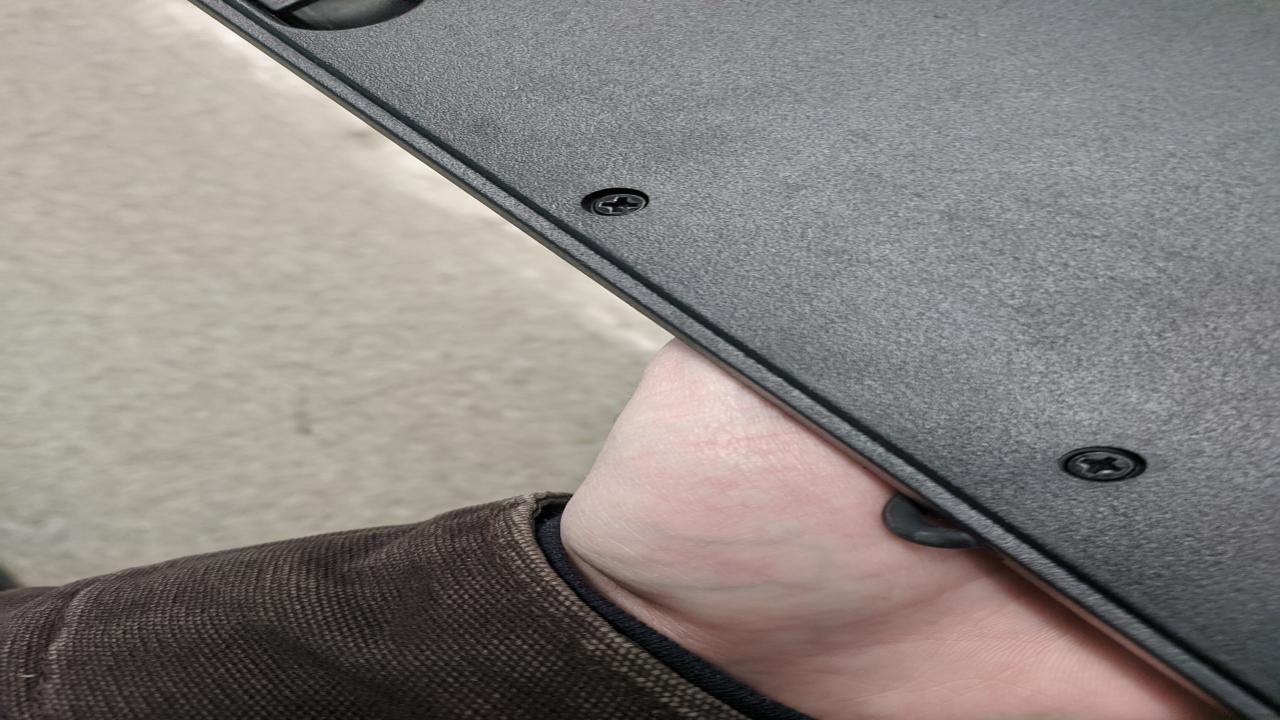CRS: (1065, 451, 1141, 483), (585, 191, 654, 216)
